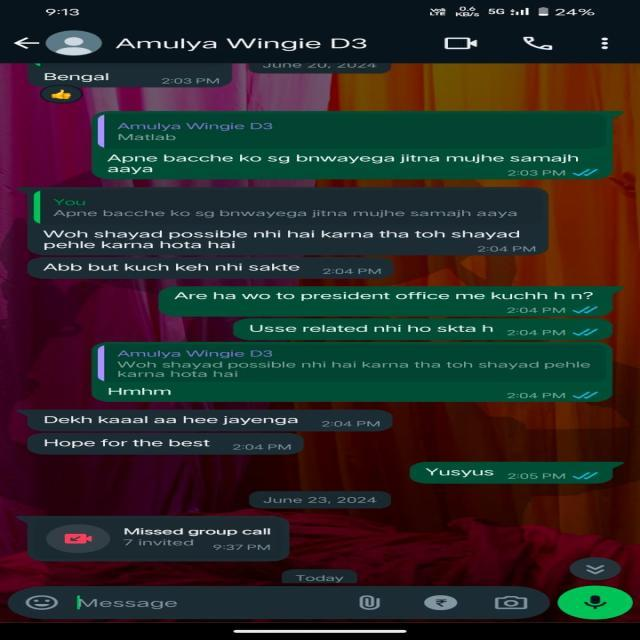scam: (33, 228, 540, 250), (36, 258, 319, 282), (29, 409, 328, 430), (34, 433, 220, 455), (36, 64, 132, 88)
